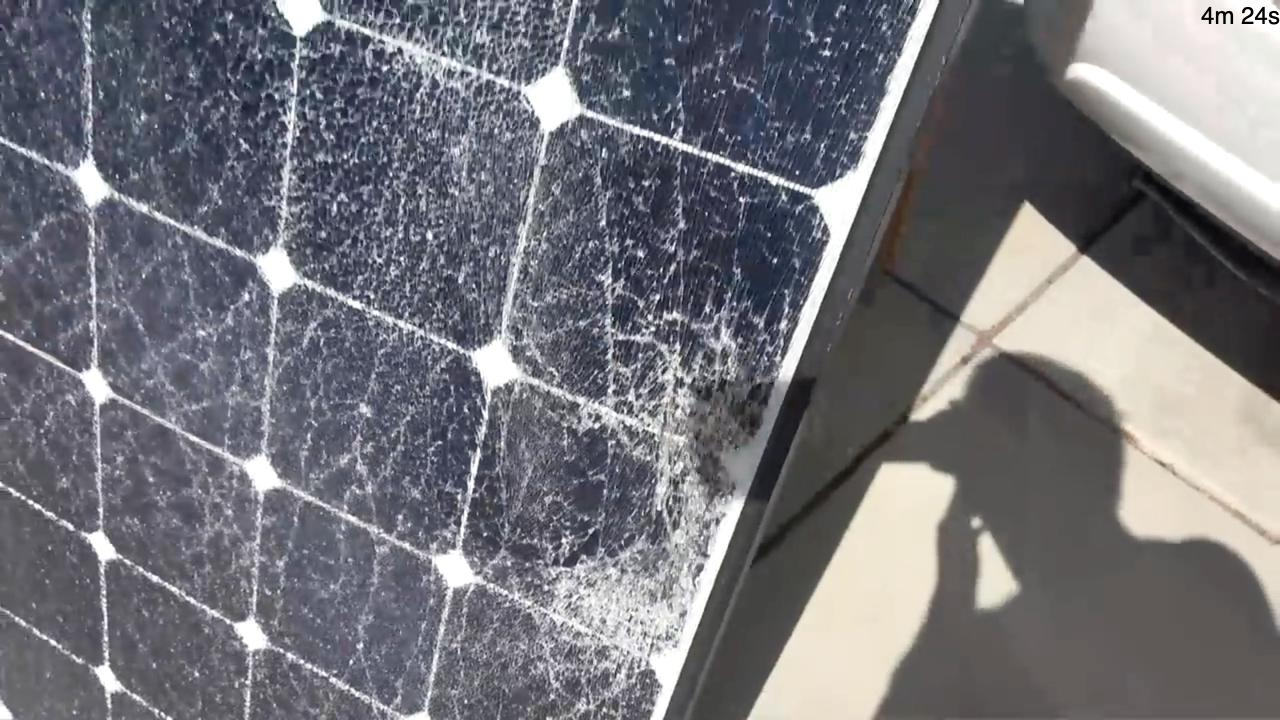Crack: (307, 0, 565, 240), (514, 507, 672, 692), (599, 279, 749, 465)
